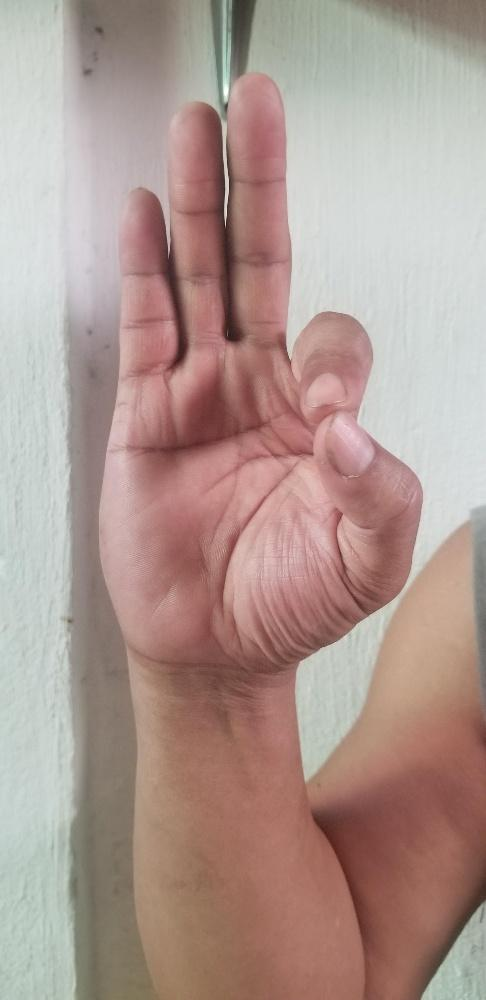f: (95, 70, 426, 667)
